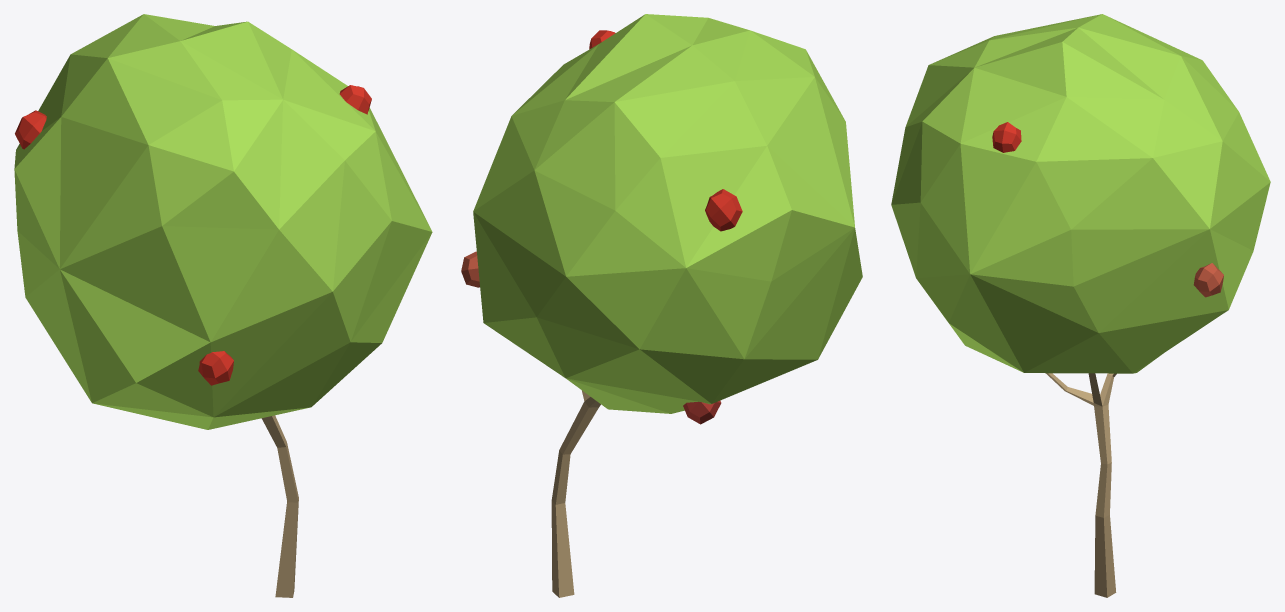
The model's file is Apple_Tree_Apples_s_04_LOD.fbx.
3 views of the same model, side by side, from view 1: azimuth 30°, elevation 25°; view 2: azimuth 150°, elevation 25°; view 3: azimuth 270°, elevation 25° (orthographic). The views are drawn at different scales.
Visible parts, largest first — view 1: Apple_Tree_Apples_s_04_LOD0; view 2: Apple_Tree_Apples_s_04_LOD0; view 3: Apple_Tree_Apples_s_04_LOD0.
Part boxes in pixels (x1,y1,x2,y2): Apple_Tree_Apples_s_04_LOD0: [14, 14, 432, 597]; Apple_Tree_Apples_s_04_LOD0: [461, 14, 862, 597]; Apple_Tree_Apples_s_04_LOD0: [891, 14, 1270, 597].
Size of what is drawn, in the model's own units: 184 by 317 by 207.
